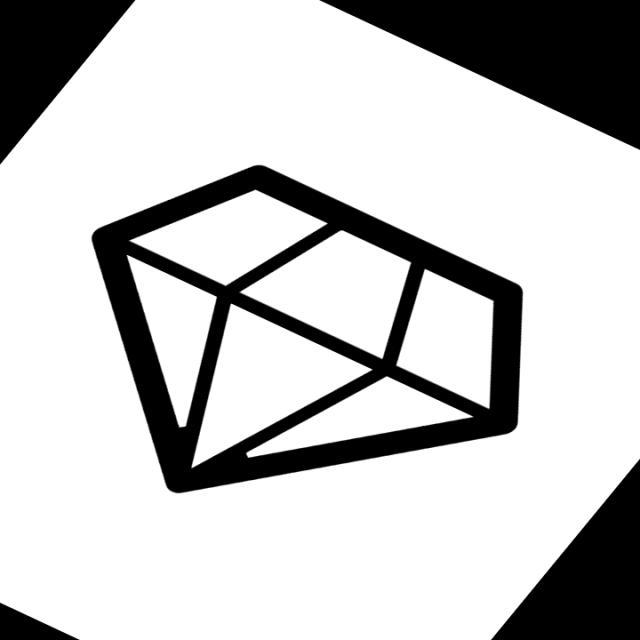diamond: (86, 160, 528, 504)
